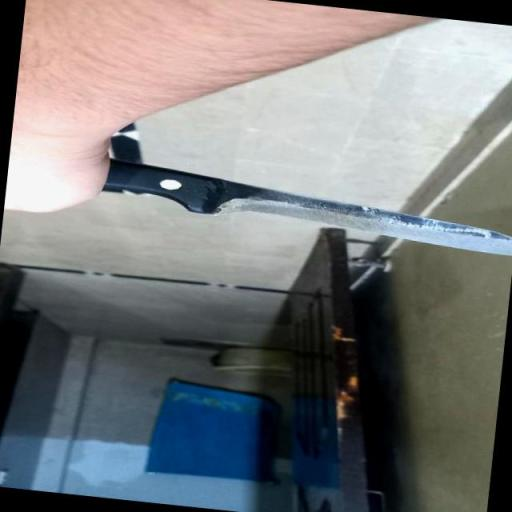knife: (32, 141, 512, 263)
